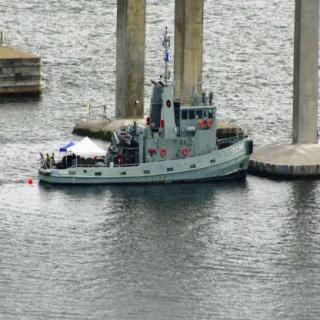Tug Boat: (36, 58, 253, 185)
